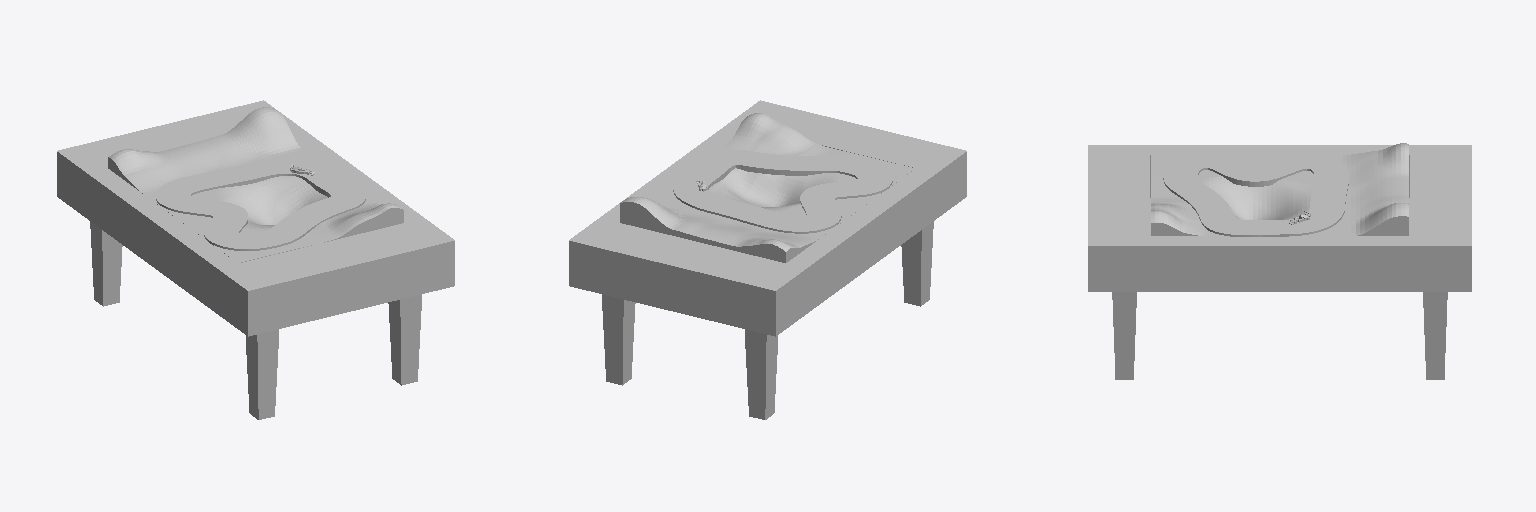
The model's file is NewestTisch17.obj.
3 views of the same model, side by side, from view 1: azimuth 30°, elevation 25°; view 2: azimuth 150°, elevation 25°; view 3: azimuth 270°, elevation 25° (orthographic).
Parts seen in each view (by area): view 1: Tischplatte_wood_table_001, Landschaft_aerial_grass_rock, off, Bein1_wood_table_001, Bein4_wood_table_001.003, Bein3_wood_table_001.002; view 2: Tischplatte_wood_table_001, Landschaft_aerial_grass_rock, off, Bein2_wood_table_001.001, Bein3_wood_table_001.002, Bein4_wood_table_001.003; view 3: Tischplatte_wood_table_001, Landschaft_aerial_grass_rock, off, Bein1_wood_table_001, Bein2_wood_table_001.001.
Boxes of the visible parts, x1=… form: Tischplatte_wood_table_001: x1=57, y1=100, x2=454, y2=336; Landschaft_aerial_grass_rock: x1=108, y1=107, x2=403, y2=262; off: x1=156, y1=159, x2=365, y2=250; Bein1_wood_table_001: x1=388, y1=294, x2=421, y2=385; Bein4_wood_table_001.003: x1=246, y1=329, x2=278, y2=419; Bein3_wood_table_001.002: x1=90, y1=221, x2=122, y2=306; Tischplatte_wood_table_001: x1=569, y1=100, x2=966, y2=336; Landschaft_aerial_grass_rock: x1=620, y1=113, x2=915, y2=262; off: x1=673, y1=150, x2=892, y2=233; Bein2_wood_table_001.001: x1=602, y1=294, x2=635, y2=385; Bein3_wood_table_001.002: x1=745, y1=329, x2=777, y2=419; Bein4_wood_table_001.003: x1=901, y1=221, x2=933, y2=306; Tischplatte_wood_table_001: x1=1088, y1=145, x2=1471, y2=291; Landschaft_aerial_grass_rock: x1=1151, y1=143, x2=1408, y2=235; off: x1=1163, y1=153, x2=1348, y2=236; Bein1_wood_table_001: x1=1112, y1=292, x2=1136, y2=379; Bein2_wood_table_001.001: x1=1423, y1=292, x2=1447, y2=379.
Size of the model in its own units: 5 by 3.91 by 8.